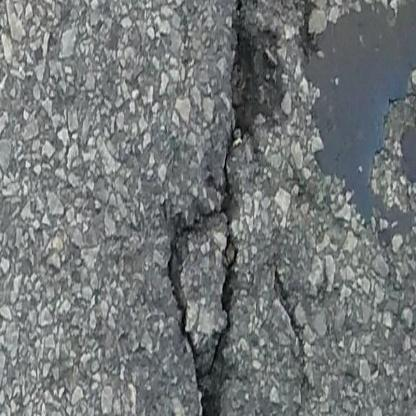Cracks: (165, 0, 289, 416), (272, 268, 313, 391), (274, 0, 323, 60)
